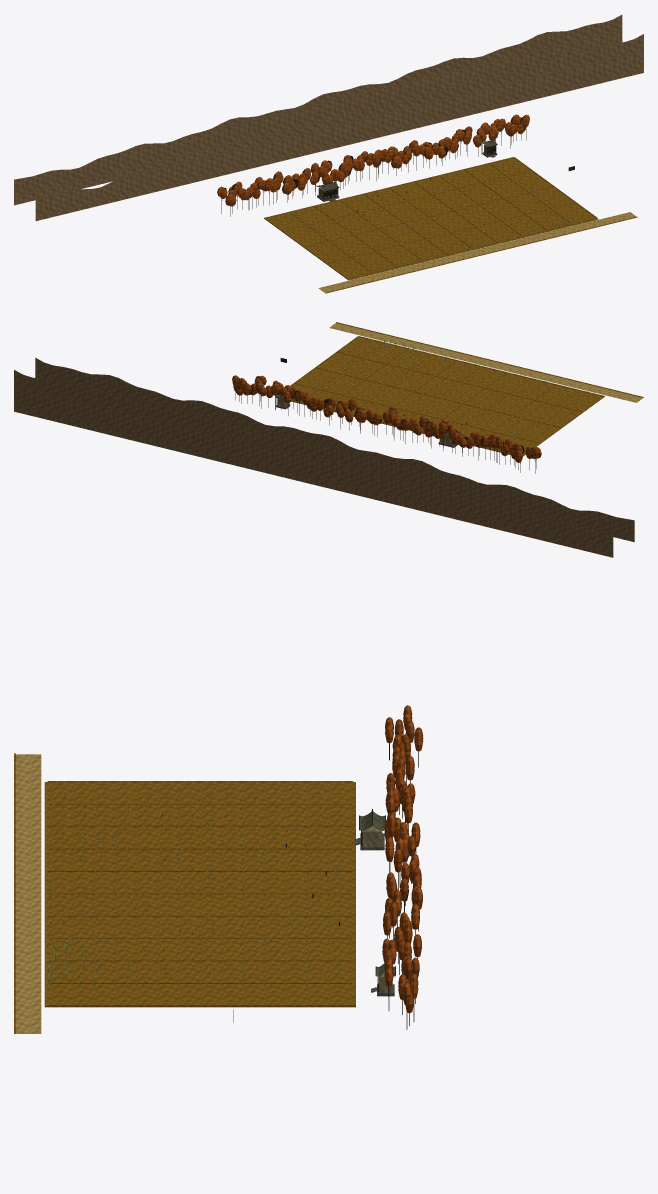
Rendered from JingXi_Aligned_Autumn.glb.
3 renders of one model, top to bottom at view 1: azimuth 30°, elevation 25°; view 2: azimuth 150°, elevation 25°; view 3: azimuth 270°, elevation 25°, orthographic. The views are drawn at different scales.
Visible parts, largest first — view 1: Autumn_MountainRidge_mountain, Autumn_FieldEarth_earth, Autumn_TreeCrowns_crown, Autumn_YuquanCanal_water, Autumn_CrossBanks_earth, Autumn_FieldBanks_earth, Autumn_Rice_Leaf_leaf, Autumn_TreeTrunks_wood, Autumn_Rice_Culm_leaf, Autumn_NearBank_earth, Autumn_TreeCrowns_leaf; view 2: Autumn_MountainRidge_mountain, Autumn_FieldEarth_earth, Autumn_TreeCrowns_crown, Autumn_YuquanCanal_water, Autumn_CrossBanks_earth, Autumn_FieldBanks_earth, Autumn_TreeTrunks_wood, Autumn_Rice_Leaf_leaf, Autumn_Rice_Culm_leaf, Autumn_NearBank_earth, Autumn_TreeCrowns_leaf; view 3: Autumn_FieldEarth_earth, Autumn_TreeCrowns_crown, Autumn_YuquanCanal_water, Autumn_FieldBanks_earth, Autumn_Rice_Leaf_leaf, Autumn_CrossBanks_earth, Autumn_Rice_Culm_leaf.
Part boxes in pixels (left/top/right/bottom): Autumn_MountainRidge_mountain: left=14, top=15, right=643, bottom=220; Autumn_FieldEarth_earth: left=264, top=157, right=598, bottom=280; Autumn_TreeCrowns_crown: left=217, top=114, right=529, bottom=206; Autumn_YuquanCanal_water: left=318, top=212, right=636, bottom=292; Autumn_CrossBanks_earth: left=265, top=157, right=596, bottom=278; Autumn_FieldBanks_earth: left=264, top=157, right=597, bottom=279; Autumn_Rice_Leaf_leaf: left=279, top=163, right=576, bottom=274; Autumn_TreeTrunks_wood: left=221, top=129, right=526, bottom=216; Autumn_Rice_Culm_leaf: left=284, top=165, right=576, bottom=275; Autumn_NearBank_earth: left=325, top=217, right=637, bottom=293; Autumn_TreeCrowns_leaf: left=224, top=117, right=524, bottom=205; Autumn_MountainRidge_mountain: left=14, top=358, right=634, bottom=557; Autumn_FieldEarth_earth: left=276, top=336, right=604, bottom=456; Autumn_TreeCrowns_crown: left=232, top=375, right=541, bottom=462; Autumn_YuquanCanal_water: left=329, top=323, right=643, bottom=402; Autumn_CrossBanks_earth: left=291, top=336, right=603, bottom=453; Autumn_FieldBanks_earth: left=290, top=336, right=604, bottom=455; Autumn_TreeTrunks_wood: left=235, top=390, right=536, bottom=473; Autumn_Rice_Leaf_leaf: left=309, top=338, right=588, bottom=443; Autumn_Rice_Culm_leaf: left=309, top=340, right=588, bottom=443; Autumn_NearBank_earth: left=336, top=322, right=643, bottom=397; Autumn_TreeCrowns_leaf: left=235, top=376, right=541, bottom=458; Autumn_FieldEarth_earth: left=44, top=782, right=355, bottom=1007; Autumn_TreeCrowns_crown: left=382, top=705, right=423, bottom=1013; Autumn_YuquanCanal_water: left=16, top=754, right=41, bottom=1033; Autumn_FieldBanks_earth: left=48, top=781, right=352, bottom=1006; Autumn_Rice_Leaf_leaf: left=46, top=785, right=341, bottom=986; Autumn_CrossBanks_earth: left=47, top=781, right=353, bottom=1005; Autumn_Rice_Culm_leaf: left=47, top=787, right=341, bottom=988.
Size of the model in its own units: 195 by 13.26 by 95.15.
16 materials, 16 textured.
